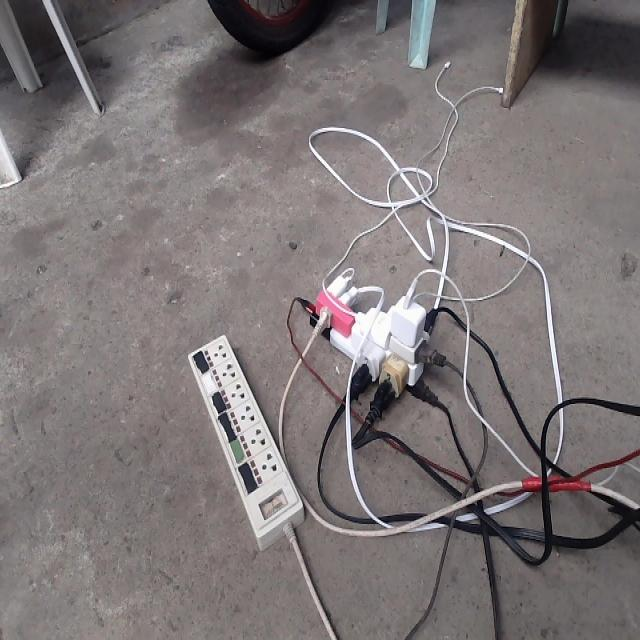-: (296, 264, 444, 409)
